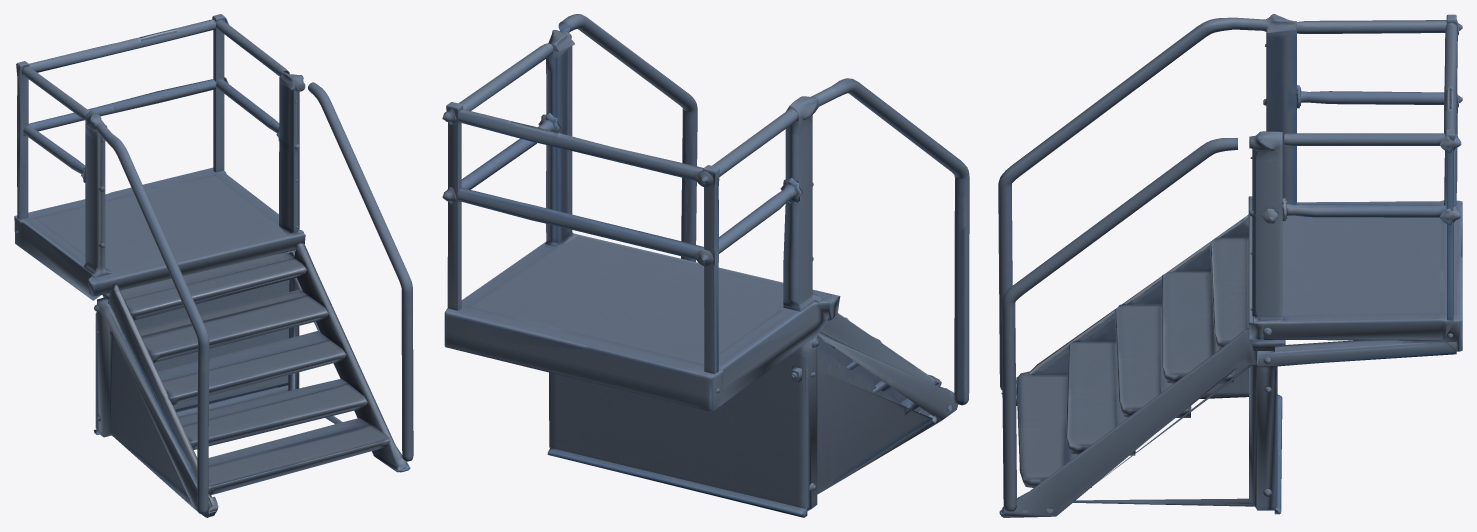
Rendered from Staircase.glb.
The picture shows the model from 3 angles, left to right: view 1: azimuth 30°, elevation 25°; view 2: azimuth 150°, elevation 25°; view 3: azimuth 270°, elevation 25°; orthographic projection. The views are drawn at different scales.
Parts seen in each view (by area): view 1: tripo_node_333bec5e-4cad-4880-8c0e-a8e419b1d1f7; view 2: tripo_node_333bec5e-4cad-4880-8c0e-a8e419b1d1f7; view 3: tripo_node_333bec5e-4cad-4880-8c0e-a8e419b1d1f7.
Part boxes in pixels (box(x1,y1,x2,y2)): tripo_node_333bec5e-4cad-4880-8c0e-a8e419b1d1f7: box(14, 14, 413, 517); tripo_node_333bec5e-4cad-4880-8c0e-a8e419b1d1f7: box(442, 14, 969, 517); tripo_node_333bec5e-4cad-4880-8c0e-a8e419b1d1f7: box(998, 14, 1462, 517).
Size of the model in its own units: 0.6577 by 0.9106 by 0.9995.
Materials: 1 (1 with a texture image).
